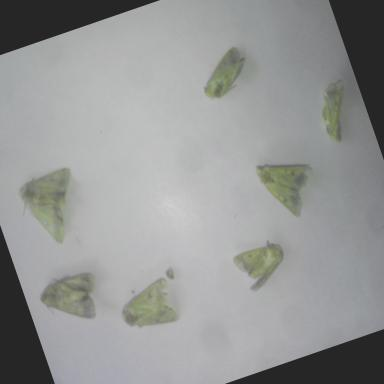abw: (7, 162, 96, 259), (251, 146, 329, 230), (32, 262, 112, 338), (187, 40, 260, 109), (112, 273, 184, 342), (226, 232, 297, 300), (308, 72, 367, 152)
